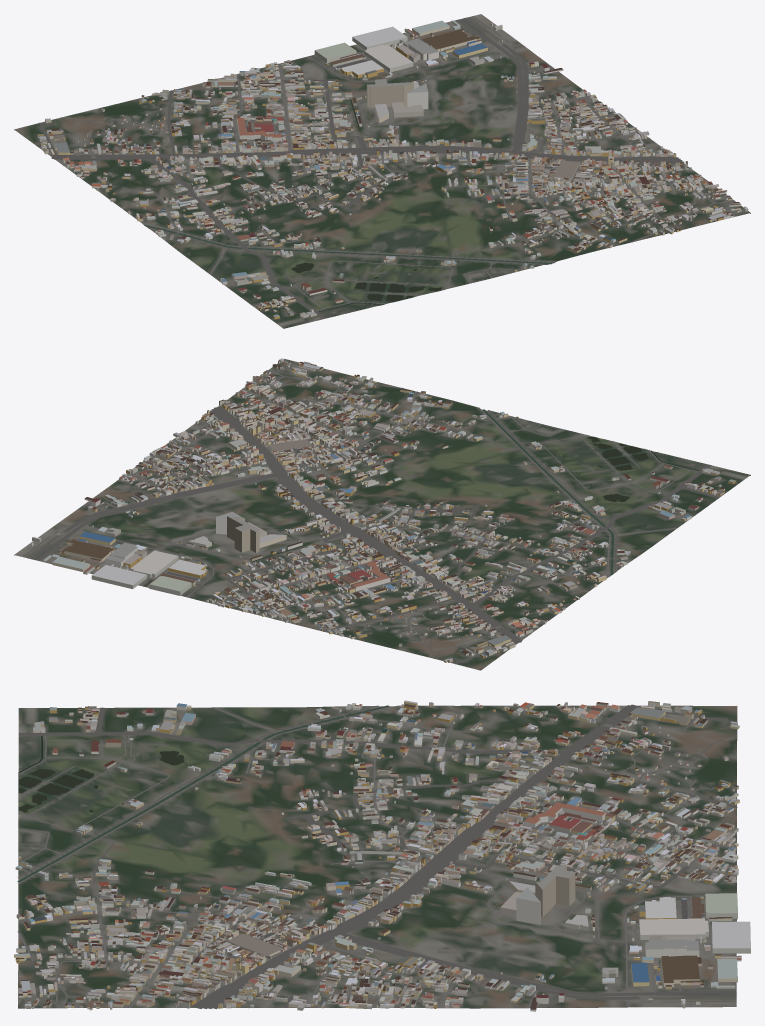
The picture shows the model from 3 angles, top to bottom: view 1: azimuth 30°, elevation 25°; view 2: azimuth 150°, elevation 25°; view 3: azimuth 270°, elevation 25°; orthographic projection. The views are drawn at different scales.
Parts seen in each view (by area): view 1: ground, buildings, roads, water; view 2: ground, buildings, roads, water; view 3: ground, buildings, roads, water.
Part boxes in pixels (x1,y1,x2,y2): ground: (14,14,750,328); buildings: (37,20,748,319); roads: (39,16,735,319); water: (144,100,551,311); ground: (14,358,750,670); buildings: (31,358,736,662); roads: (22,362,719,664); water: (253,409,698,574); ground: (18,705,737,1008); buildings: (14,700,750,1011); roads: (17,704,737,1009); water: (17,705,592,888).
Size of the model in its own units: 1419 by 69.68 by 1436.
